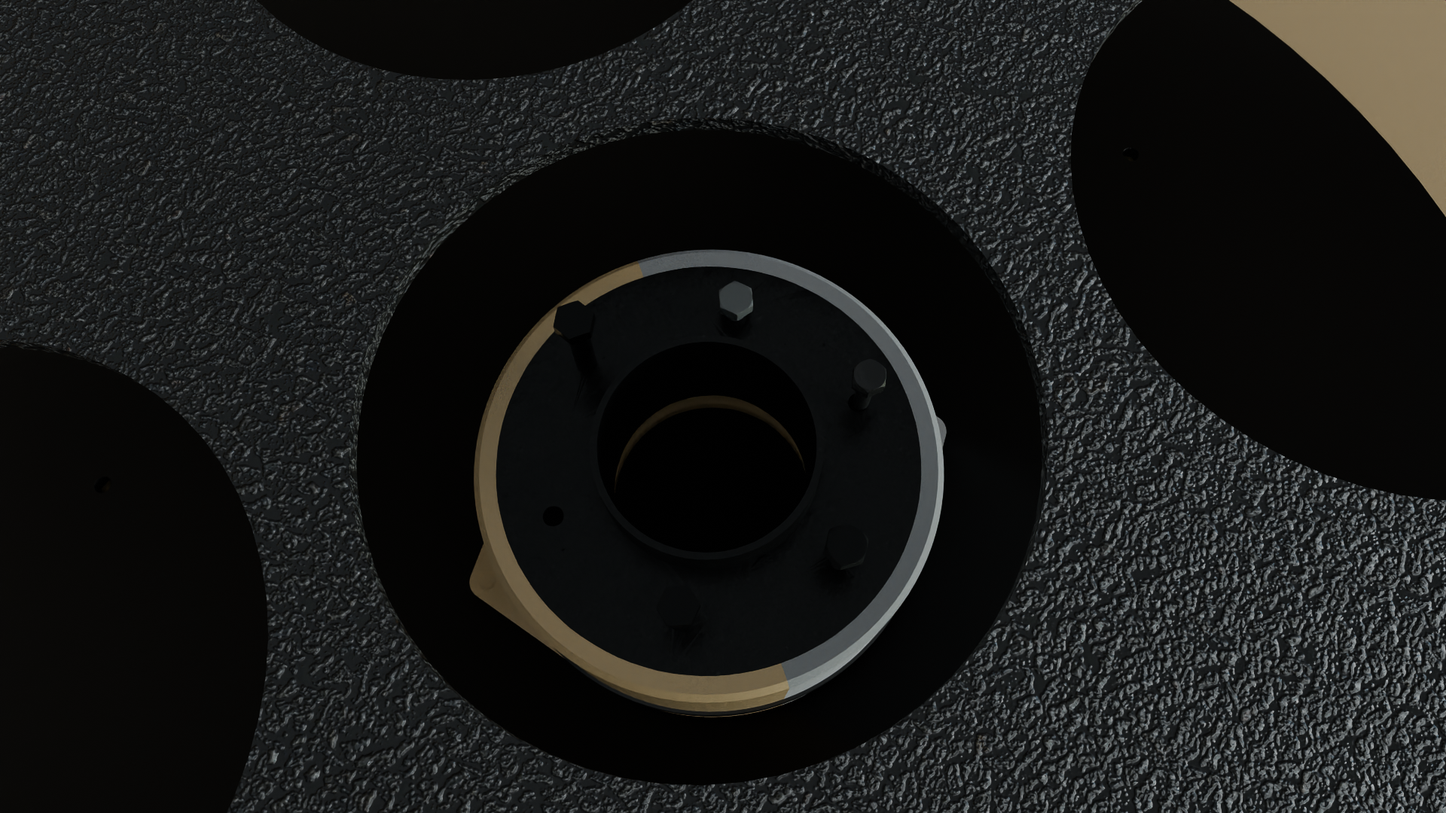bolt: (825, 523, 868, 567), (656, 586, 700, 626), (554, 300, 594, 339), (718, 281, 753, 315), (853, 359, 886, 393)
